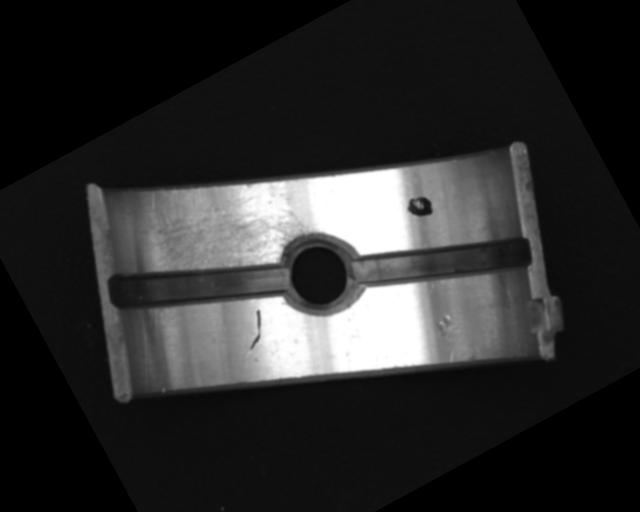blot: (402, 190, 436, 224)
bruise: (428, 309, 464, 344)
gap: (101, 201, 298, 367), (350, 183, 536, 337)
hole: (266, 221, 371, 326)
nick: (232, 306, 275, 352)
scratch: (126, 131, 321, 316)
